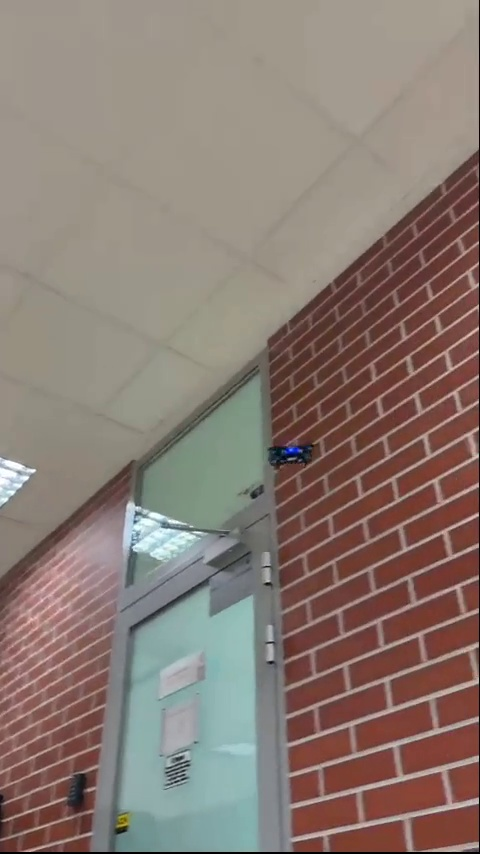drone: (267, 437, 315, 470)
